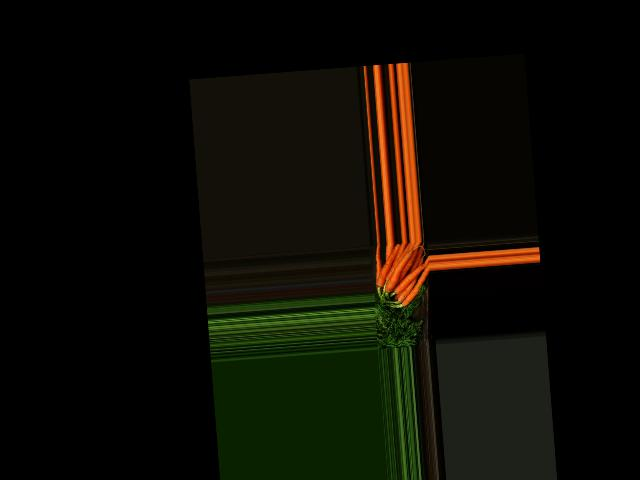carrot: (372, 242, 404, 289)
